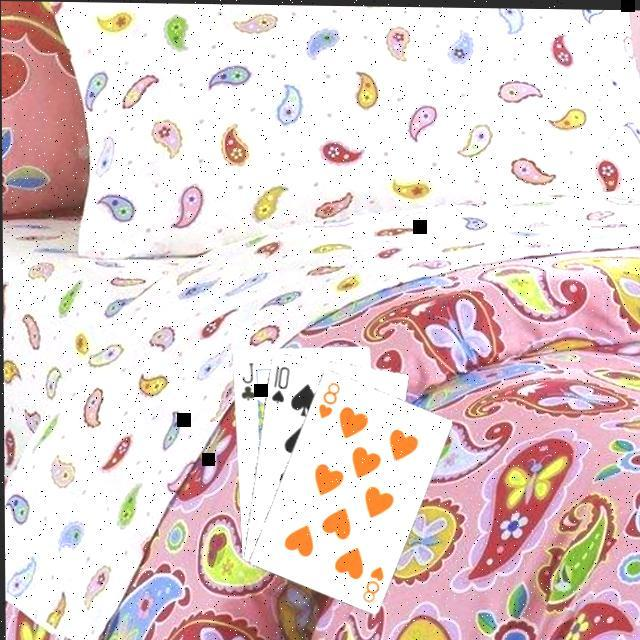10S: (265, 359, 289, 404)
8H: (312, 375, 340, 419), (356, 559, 384, 602)
JC: (235, 355, 255, 400)
